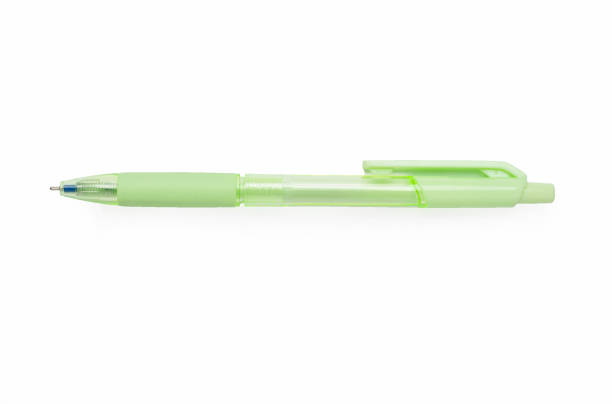pen: (43, 155, 571, 224)
